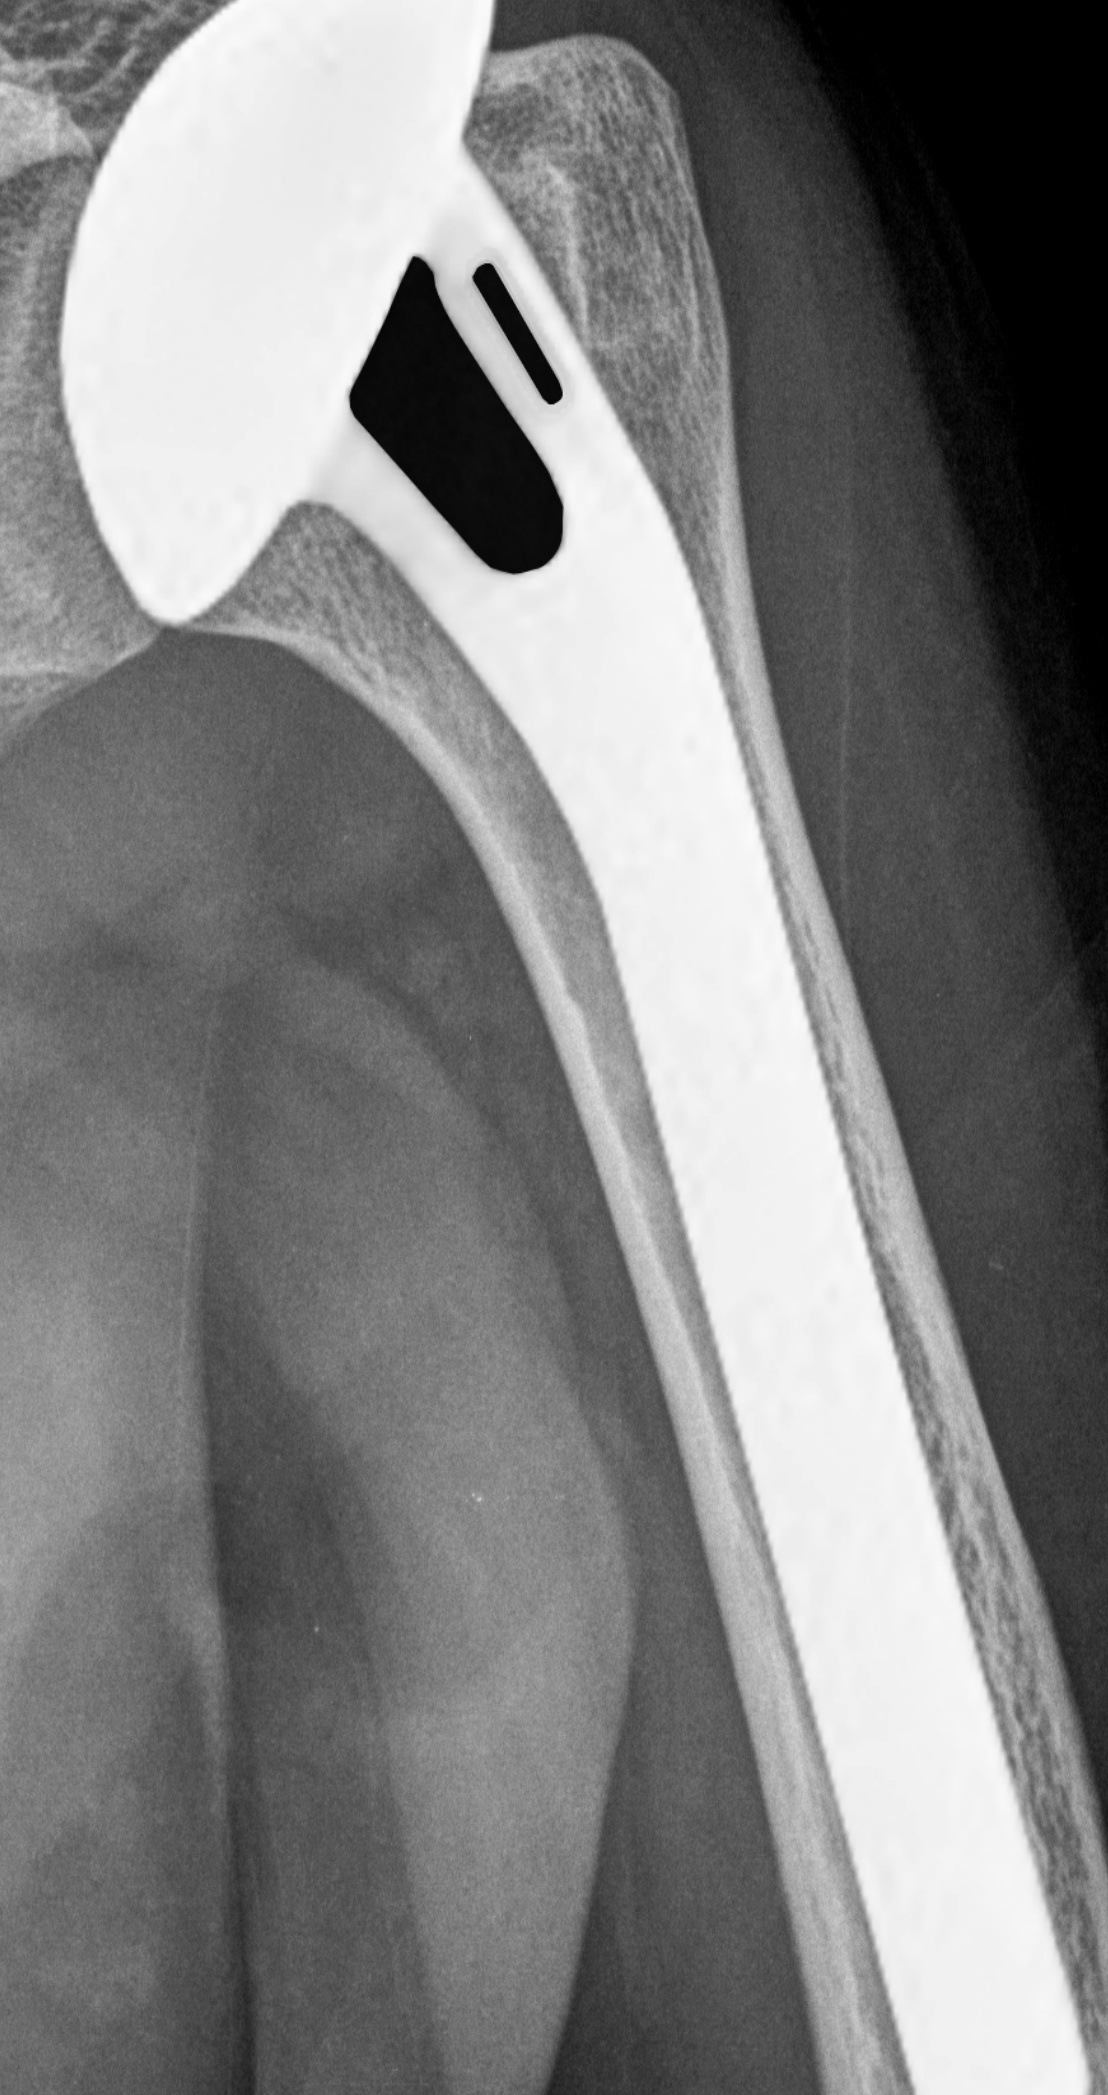Shoulder - AequalisFracture - Tornier: (39, 1, 637, 655)
